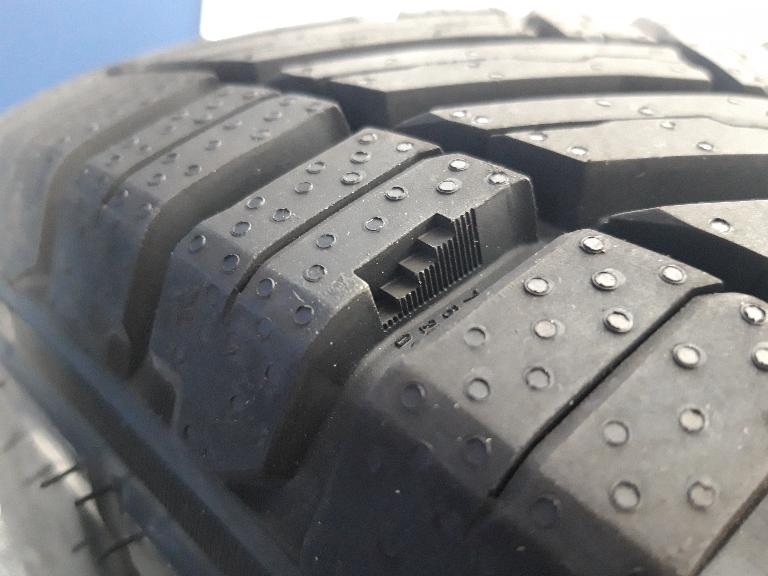temoin:100: (346, 198, 490, 340)
